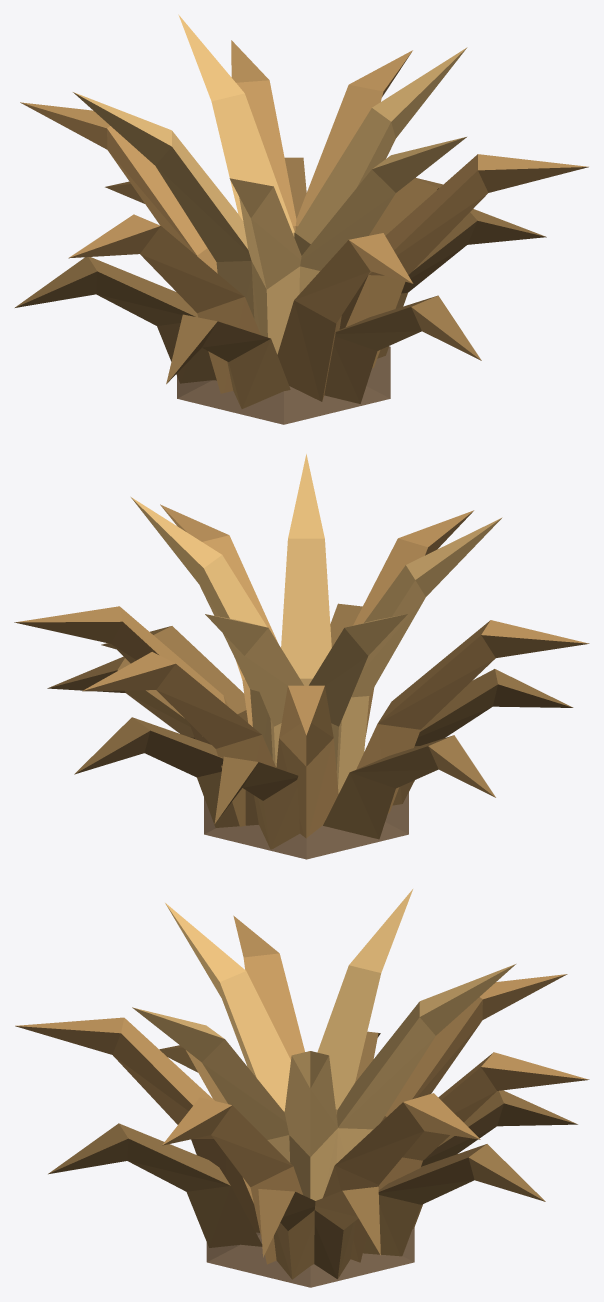
The model's file is TB_D_Env_GrassC_B.FBX.
3 views of the same model, one above another, from view 1: azimuth 30°, elevation 25°; view 2: azimuth 150°, elevation 25°; view 3: azimuth 270°, elevation 25° (orthographic). The views are drawn at different scales.
Visible parts, largest first — view 1: TB_D_Env_GrassC_B; view 2: TB_D_Env_GrassC_B; view 3: TB_D_Env_GrassC_B.
Part boxes in pixels (x1=…): TB_D_Env_GrassC_B: x1=15, y1=14, x2=588, y2=424; TB_D_Env_GrassC_B: x1=14, y1=454, x2=589, y2=859; TB_D_Env_GrassC_B: x1=15, y1=889, x2=589, y2=1287.
Size of the model in its own units: 2.21 by 1.2 by 2.29.
